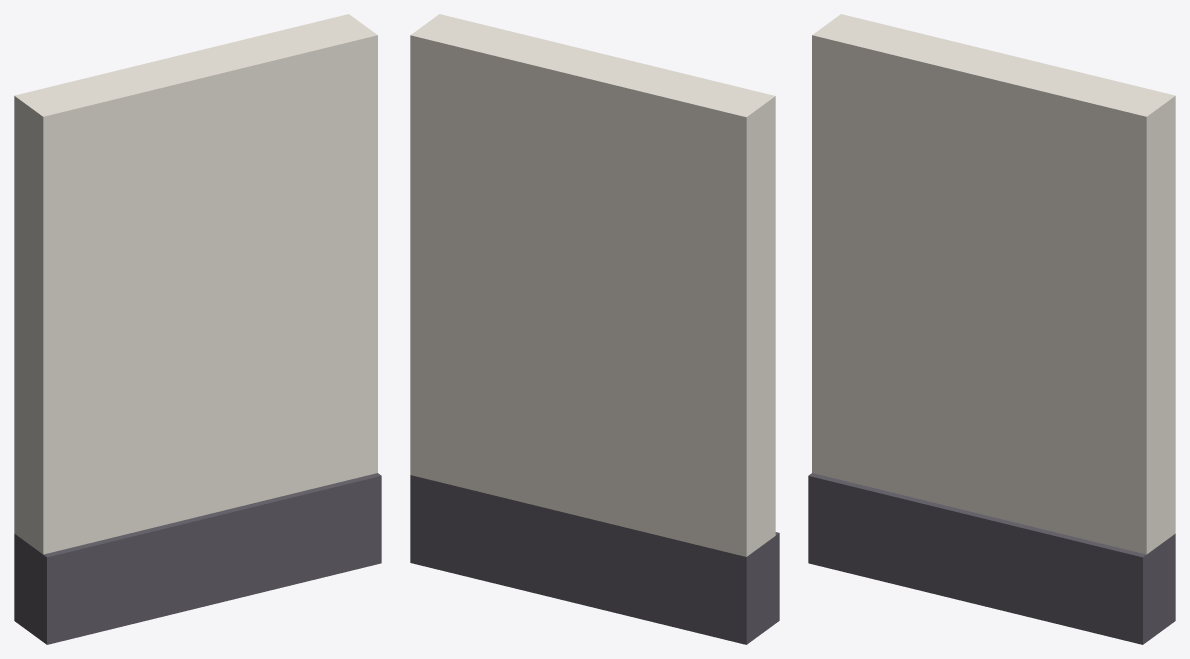
The model's file is ground_plain.glb.
3 renders of one model, left to right at view 1: azimuth 30°, elevation 25°; view 2: azimuth 150°, elevation 25°; view 3: azimuth 330°, elevation 25°, orthographic.
Visible parts, largest first — view 1: ground_plain; view 2: ground_plain; view 3: ground_plain.
Part boxes in pixels (x1,y1,x2,y2): ground_plain: (14,14,381,644); ground_plain: (410,14,779,644); ground_plain: (808,14,1175,644).
Bounding box in the file's own units: 2 × 3 × 0.34.
2 materials, 2 textured.
